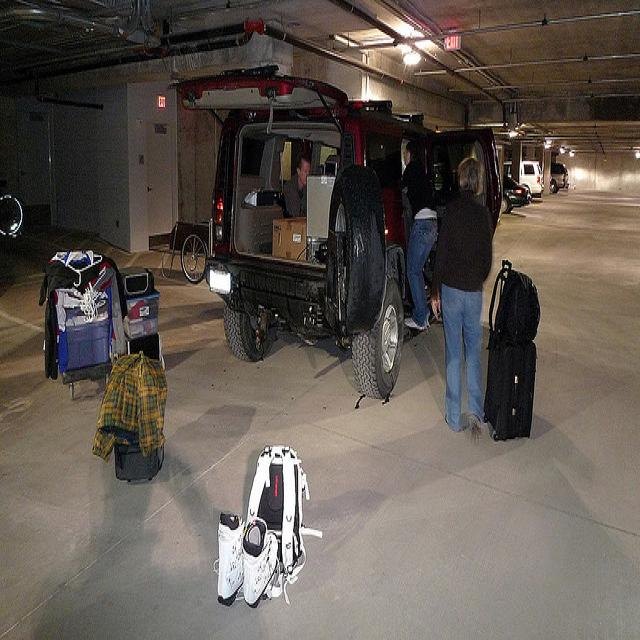Vehicle: (167, 64, 503, 400), (503, 160, 543, 206), (501, 173, 529, 214), (550, 162, 570, 192)
